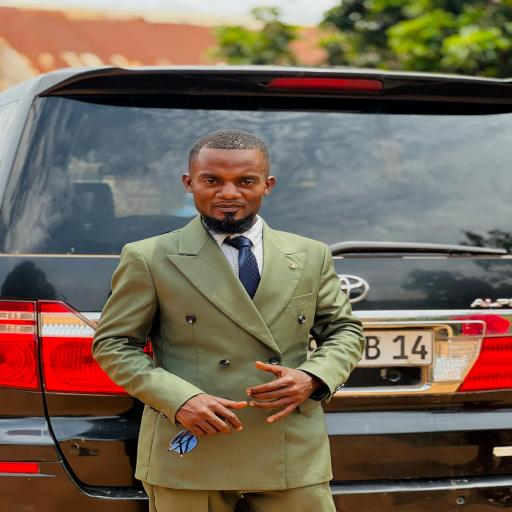MATTHIEU: (184, 126, 279, 239)
